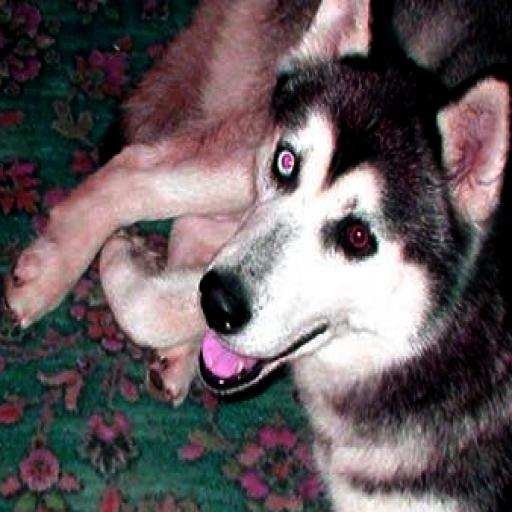dog_face: (198, 0, 494, 401)
